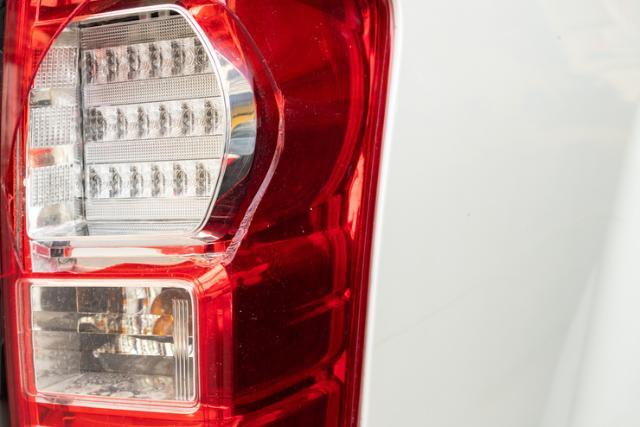Light: (2, 0, 367, 427)
